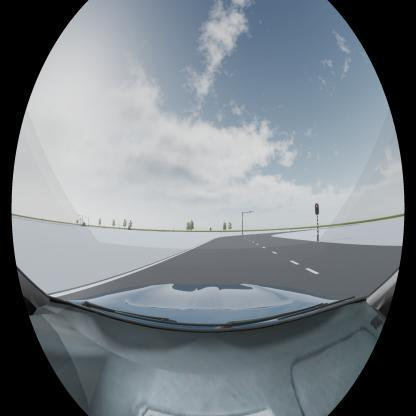Red Light: (315, 203, 320, 217)
